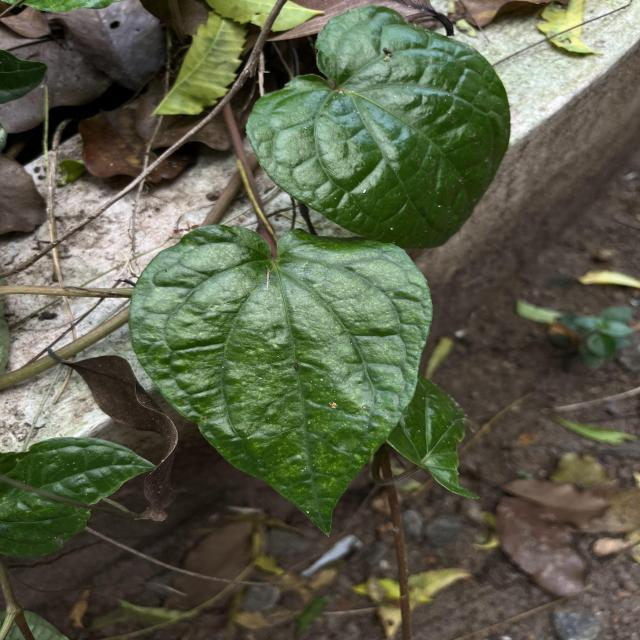Piper betle: (124, 219, 437, 544)
